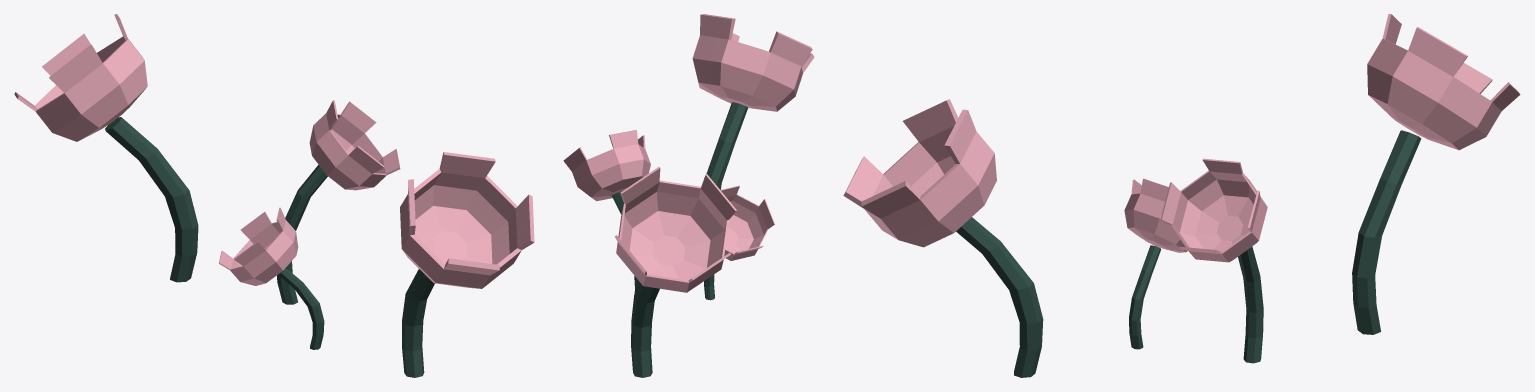
The model's file is Pot_2b_plantcluster.fbx.
3 views of the same model, side by side, from view 1: azimuth 30°, elevation 25°; view 2: azimuth 150°, elevation 25°; view 3: azimuth 270°, elevation 25° (orthographic). The views are drawn at different scales.
Parts seen in each view (by area): view 1: Circle.007; view 2: Circle.007; view 3: Circle.007.
Part boxes in pixels (x1,y1,x2,y2): Circle.007: (14, 14, 534, 377); Circle.007: (563, 14, 814, 377); Circle.007: (843, 14, 1520, 377).
Bounding box in the file's own units: 91.94 × 80.36 × 175.
